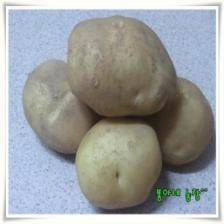Potato: (66, 14, 176, 123), (73, 114, 165, 212), (21, 55, 104, 160), (140, 69, 218, 168)
